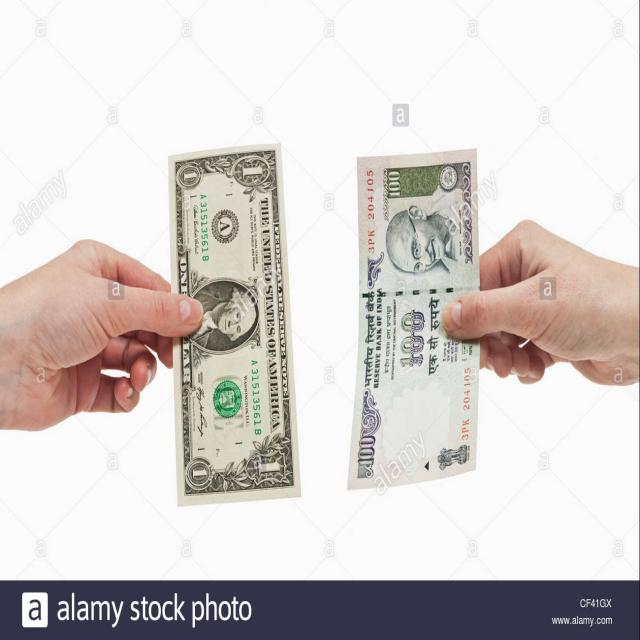100IndianRupees: (349, 148, 477, 492)
